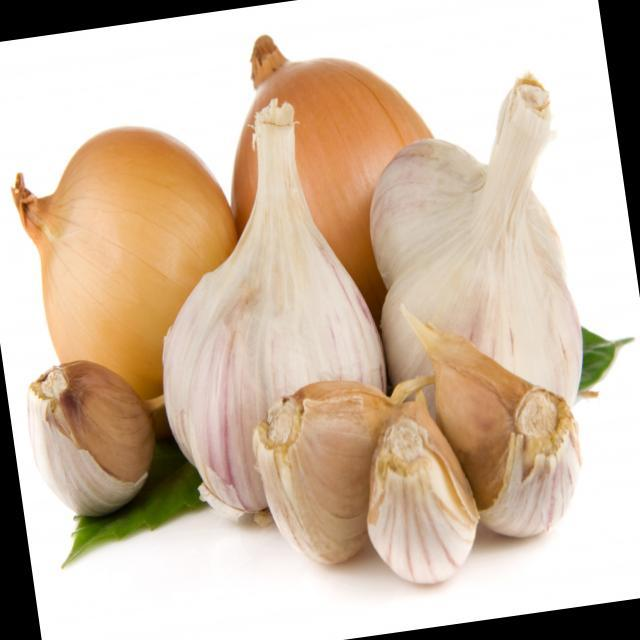ONIONS: (124, 105, 406, 525), (3, 119, 232, 394), (419, 294, 606, 558), (245, 374, 409, 568), (349, 389, 487, 584), (19, 334, 160, 496), (356, 70, 380, 90)
